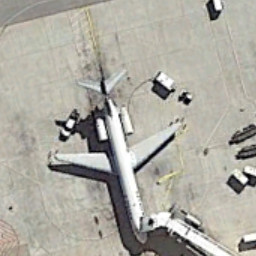Airplane: (40, 60, 189, 248)
